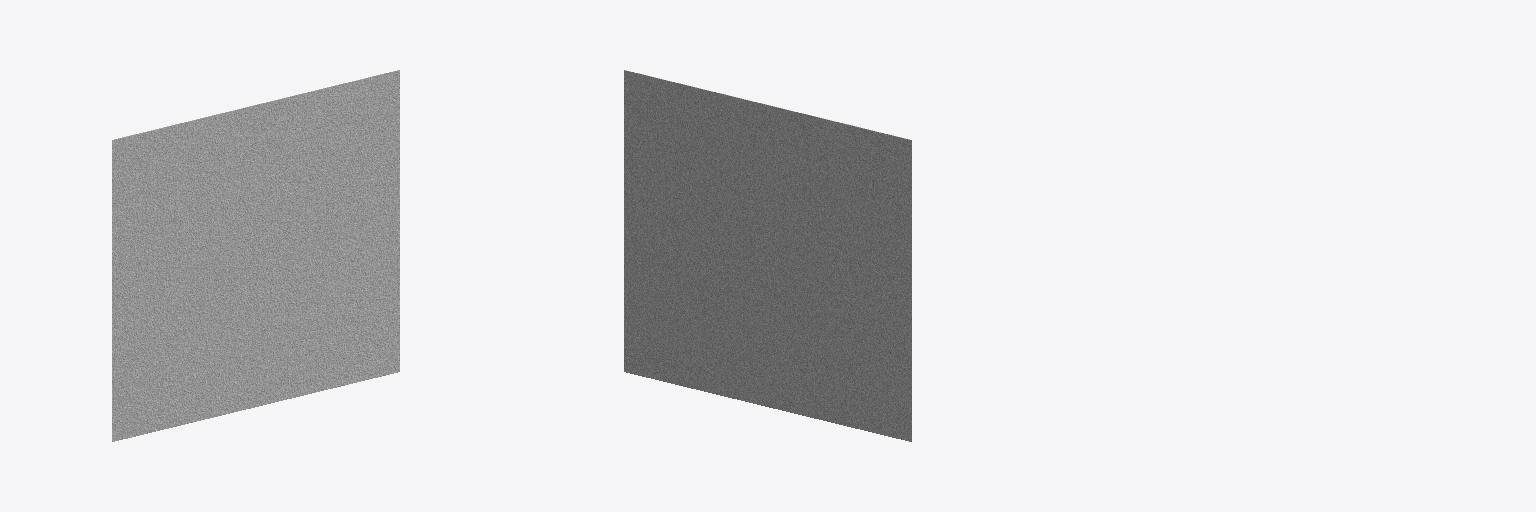
The picture shows the model from 3 angles: view 1: azimuth 30°, elevation 25°; view 2: azimuth 150°, elevation 25°; view 3: azimuth 270°, elevation 25°; orthographic projection.
Parts seen in each view (by area): view 1: Box003; view 2: Box003; view 3: none.
Part boxes in pixels (x1,y1,x2,y2): Box003: (112,70,399,441); Box003: (624,70,911,441).
Size of the model in its own units: 3500 by 3500 by 10.
Materials: 1 (1 with a texture image).